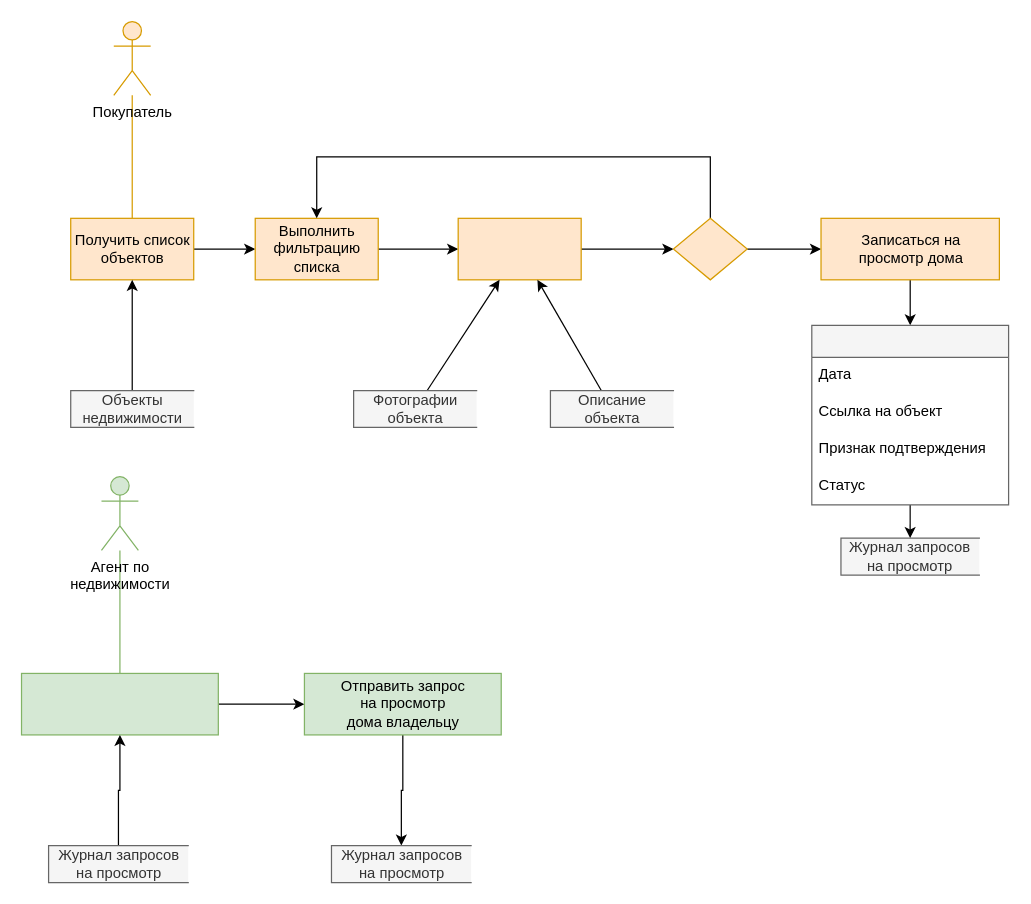
Some shapes in this 1031 by 904 pixel diagram are drawn without their labels. The box of each missing label's shape, as (x1, y1, x2, y2) in pixels:
Запрос: (811, 324, 1009, 505)
Запросить разрешение на просмотр дома: (20, 672, 218, 735)
Открыть карточку объекта: (457, 217, 581, 280)
